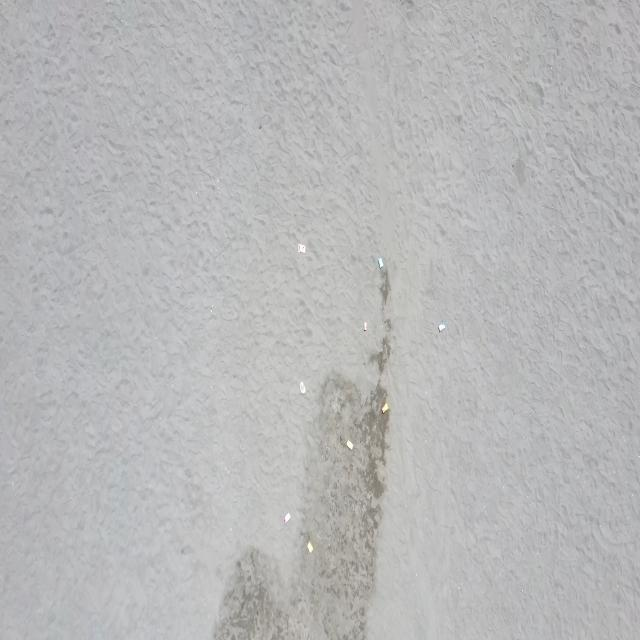retort-pouch: (298, 379, 306, 396), (283, 511, 292, 526), (298, 242, 306, 256), (346, 438, 354, 451), (438, 321, 446, 333), (381, 402, 388, 414), (378, 256, 384, 269), (308, 542, 314, 554), (363, 320, 367, 332)
